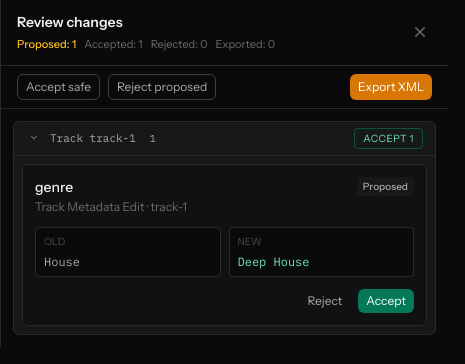
it: DiffReviewPanel › groups changes by target and filters by status
Expected: the heading "Track track-1" is shown, [50,130,136,146]
Expected: the text "Track track-2" is not shown
Click the button "Accepted: 1": [113, 44] box [84,36,143,52]
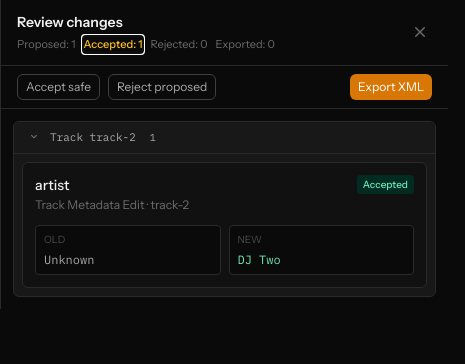
Now the heading "Track track-2" is shown, box [50,129,136,145]
Now the heading "Track track-1" is gone
